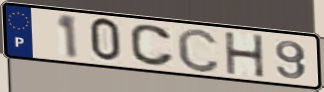0: (87, 16, 124, 66)
1: (55, 13, 79, 60)
9: (273, 39, 307, 80)
C: (175, 27, 222, 74), (128, 23, 177, 68)
H: (222, 31, 268, 79)
